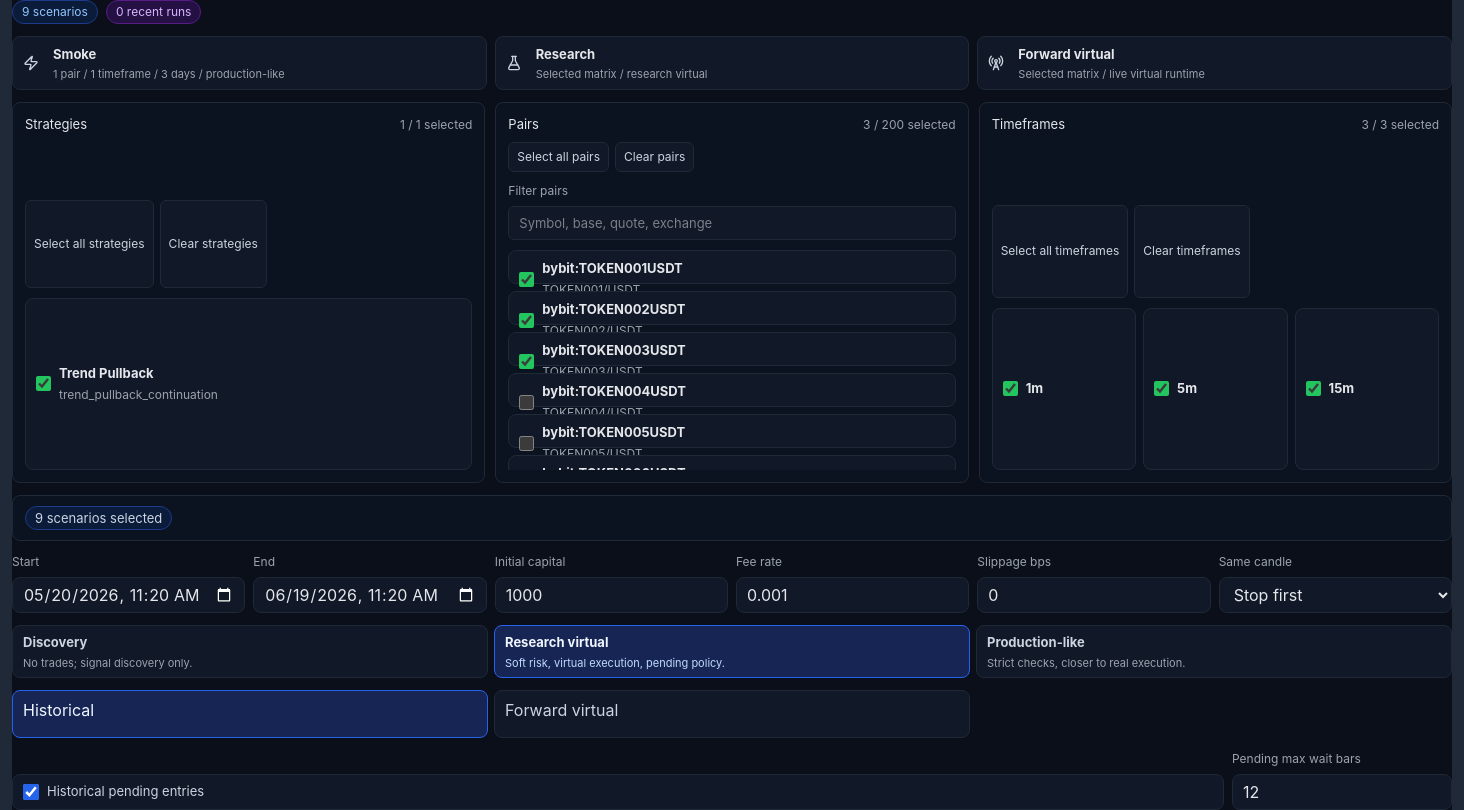
Scenario: StrategyTestingPanel › selects all available pairs
Click the button "Select all pairs" at coordinates (559, 157), box top-left (508, 142), bottom-right (609, 172)
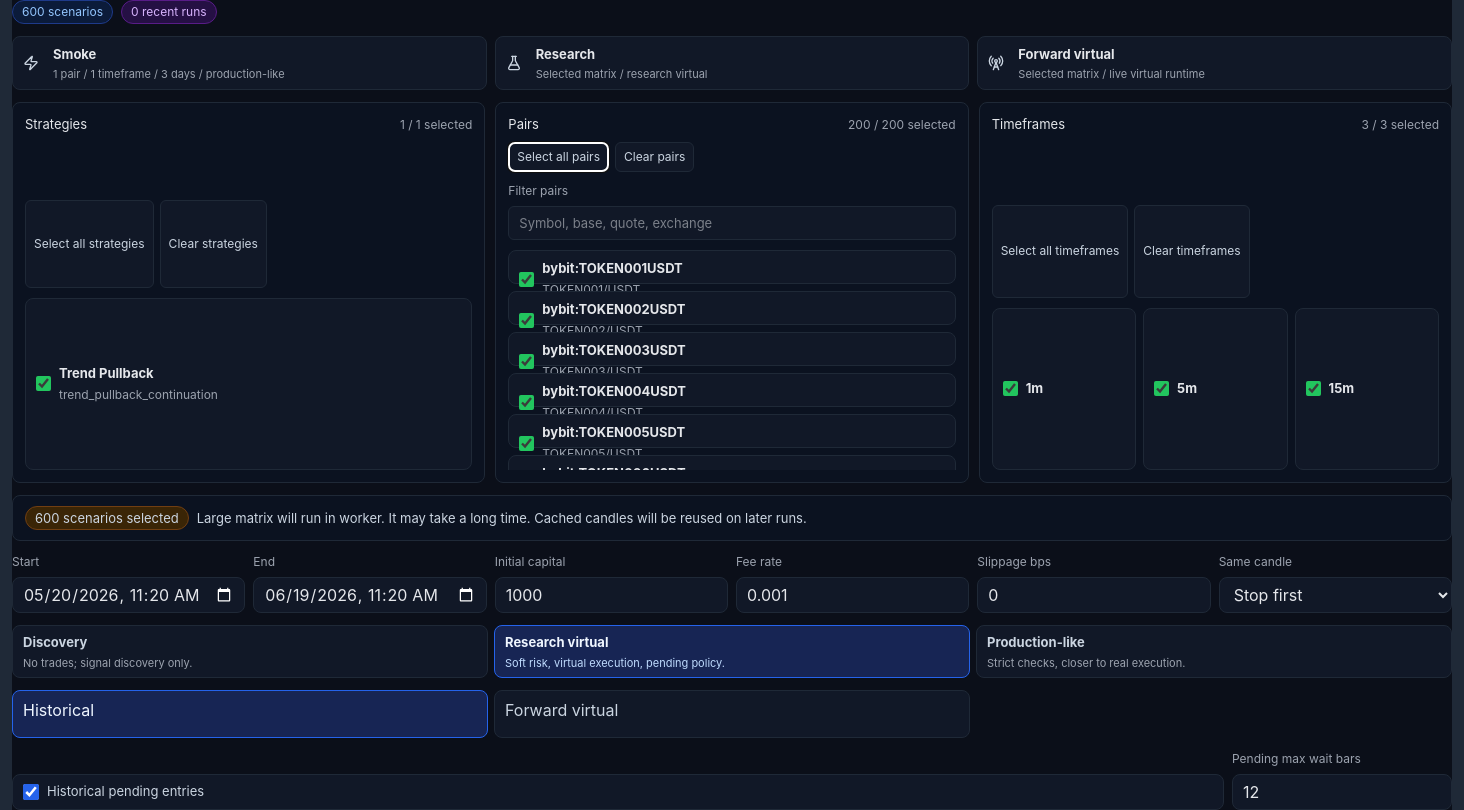
Result: the text "200 / 200 selected" is shown at top-left (848, 116), bottom-right (956, 134)
